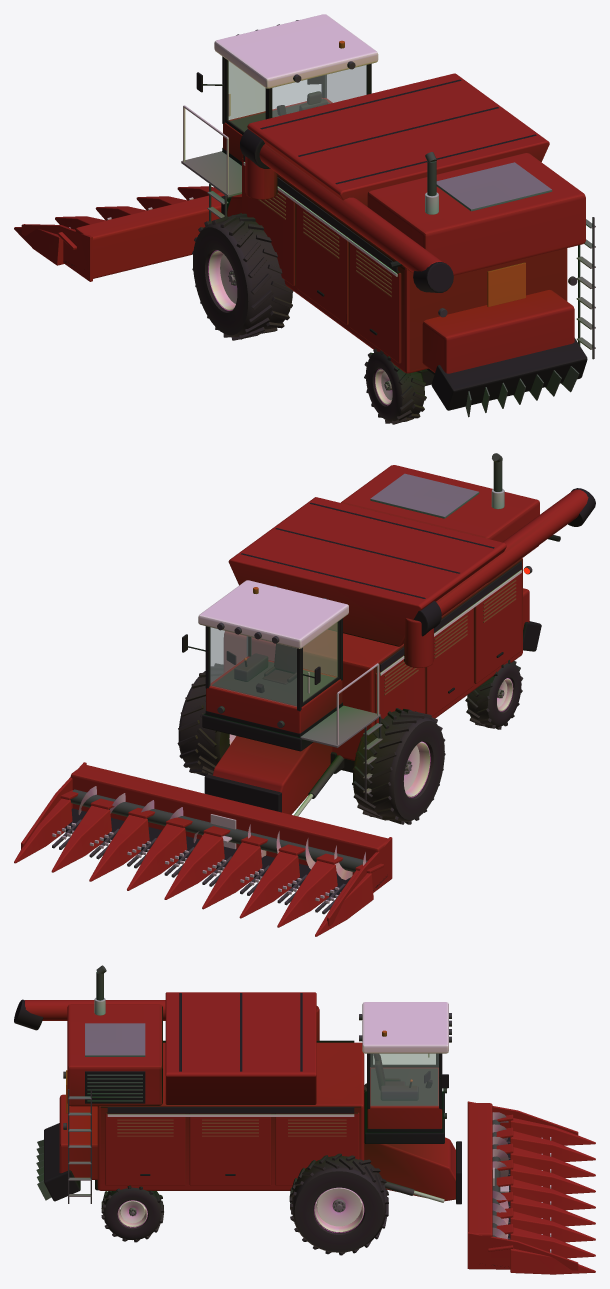
The model's file is combine.glb.
The picture shows the model from 3 angles, top to bottom: view 1: azimuth 30°, elevation 25°; view 2: azimuth 150°, elevation 25°; view 3: azimuth 270°, elevation 25°; orthographic projection. The views are drawn at different scales.
Visible parts, largest first — view 1: combine_body, combine_header, combine_wheel_fl, combine_auger, combine_glass, combine_wheel_rl, combine_door; view 2: combine_body, combine_header, combine_wheel_fl, combine_glass, combine_auger, combine_header_auger, combine_wheel_front, combine_wheel_rl, combine_door; view 3: combine_body, combine_header, combine_wheel_front, combine_glass, combine_wheel_rear, combine_auger, combine_header_auger, combine_door.
Boxes of the visible parts, bbox=[...] form: combine_body: bbox=[181, 14, 595, 417]; combine_header: bbox=[14, 186, 224, 281]; combine_wheel_fl: bbox=[192, 213, 293, 340]; combine_auger: bbox=[240, 129, 453, 292]; combine_glass: bbox=[229, 62, 366, 119]; combine_wheel_rl: bbox=[364, 349, 426, 424]; combine_door: bbox=[225, 58, 266, 134]; combine_body: bbox=[182, 453, 560, 816]; combine_header: bbox=[14, 762, 392, 936]; combine_wheel_fl: bbox=[352, 708, 445, 824]; combine_glass: bbox=[210, 623, 336, 706]; combine_auger: bbox=[404, 488, 595, 667]; combine_header_auger: bbox=[70, 786, 367, 879]; combine_wheel_front: bbox=[177, 663, 235, 775]; combine_wheel_rl: bbox=[465, 660, 523, 729]; combine_door: bbox=[301, 620, 340, 706]; combine_body: bbox=[36, 965, 461, 1204]; combine_header: bbox=[467, 1101, 595, 1274]; combine_wheel_front: bbox=[289, 1153, 388, 1255]; combine_glass: bbox=[370, 1054, 438, 1105]; combine_wheel_rear: bbox=[101, 1185, 163, 1242]; combine_auger: bbox=[14, 999, 319, 1040]; combine_header_auger: bbox=[492, 1112, 508, 1239]; combine_door: bbox=[370, 1053, 438, 1067].
Size of the model in its own units: 6.43 by 4.9 by 11.56.
